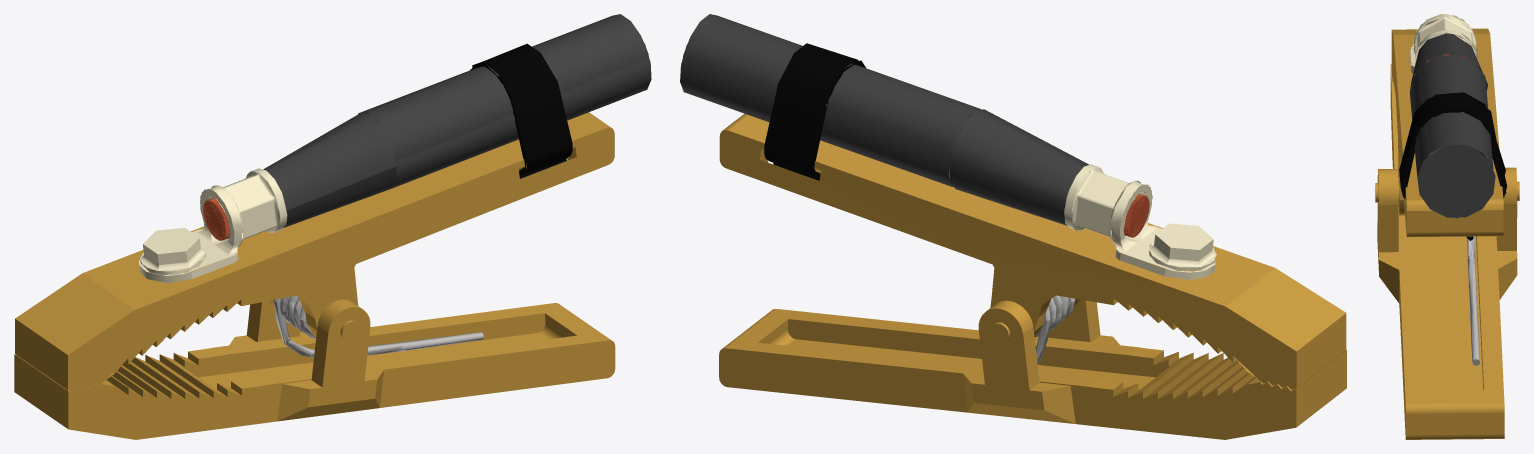
Rendered from WeldClamp3.glb.
The picture shows the model from 3 angles, left to right: view 1: azimuth 30°, elevation 25°; view 2: azimuth 150°, elevation 25°; view 3: azimuth 270°, elevation 25°; orthographic projection. The views are drawn at different scales.
Visible parts, largest first — view 1: Welding Earth Clamp-1; view 2: Welding Earth Clamp-1; view 3: Welding Earth Clamp-1.
Boxes of the visible parts, x1=… form: Welding Earth Clamp-1: x1=14, y1=14, x2=651, y2=439; Welding Earth Clamp-1: x1=680, y1=14, x2=1346, y2=439; Welding Earth Clamp-1: x1=1375, y1=14, x2=1519, y2=439.
Bounding box in the file's own units: 0.168 × 0.088 × 0.0366.
